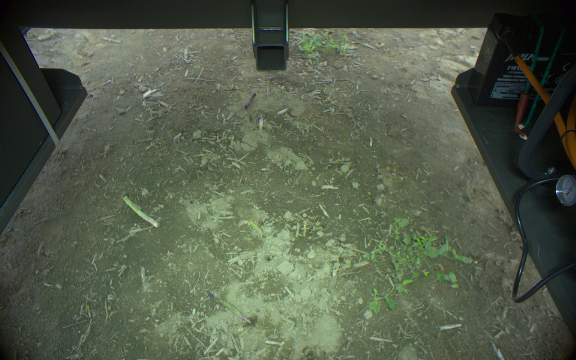aspa: (206, 290, 253, 325), (120, 195, 159, 229), (243, 92, 256, 110), (266, 74, 276, 96)
